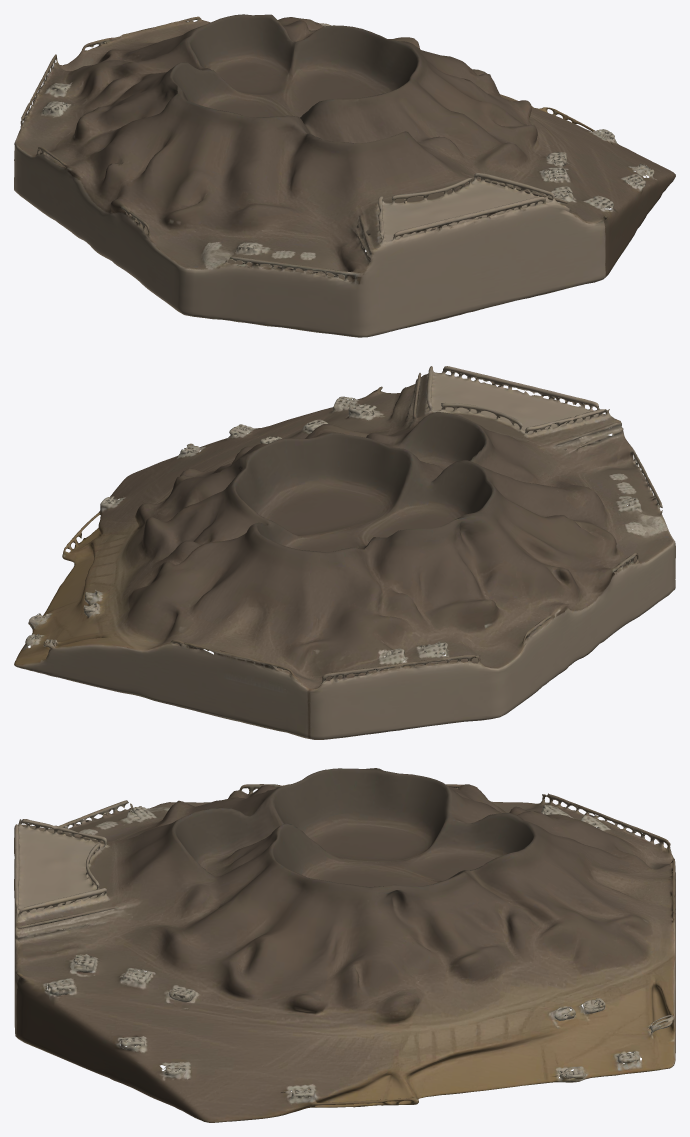
File: jabal-ayr.glb
3 views of the same model, one above another, from view 1: azimuth 30°, elevation 25°; view 2: azimuth 150°, elevation 25°; view 3: azimuth 270°, elevation 25° (orthographic). The views are drawn at different scales.
Parts seen in each view (by area): view 1: tripo_node_192be8f4; view 2: tripo_node_192be8f4; view 3: tripo_node_192be8f4.
Boxes of the visible parts, x1=… form: tripo_node_192be8f4: x1=14, y1=14, x2=675, y2=337; tripo_node_192be8f4: x1=14, y1=366, x2=675, y2=739; tripo_node_192be8f4: x1=14, y1=768, x2=675, y2=1122.
Bounding box in the file's own units: 95.07 × 22.5 × 98.04.
1 material, 1 textured.
